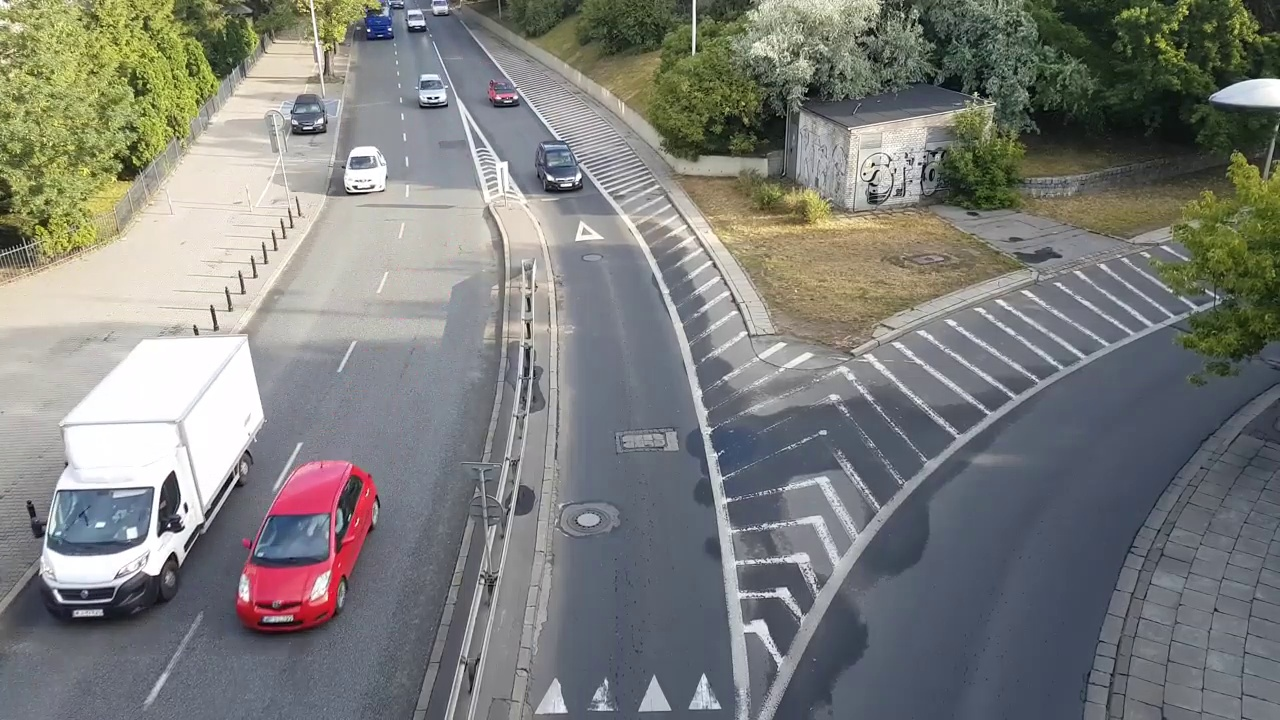car: (38, 333, 270, 624), (237, 463, 377, 637), (535, 139, 587, 197), (345, 147, 384, 195), (290, 91, 328, 135), (416, 75, 448, 113), (362, 7, 396, 42), (490, 80, 520, 108), (405, 13, 425, 34), (431, 1, 448, 18)
